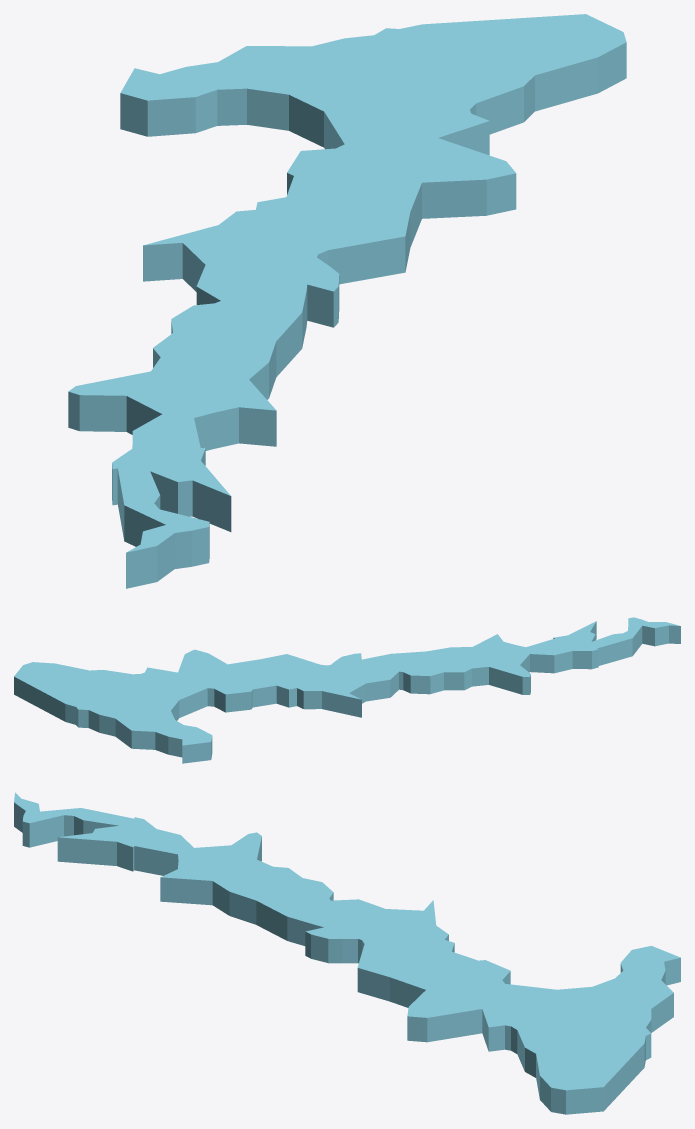
File: udeepcreek.glb
3 views of the same model, one above another, from view 1: azimuth 30°, elevation 25°; view 2: azimuth 150°, elevation 25°; view 3: azimuth 270°, elevation 25° (orthographic). The views are drawn at different scales.
Parts seen in each view (by area): view 1: deepcreek; view 2: deepcreek; view 3: deepcreek.
Boxes of the visible parts, <box> form: deepcreek: <box>68,14,626,588</box>; deepcreek: <box>14,617,680,763</box>; deepcreek: <box>14,792,680,1114</box>.
Bounding box in the file's own units: 1.49 × 0.0568 × 1.41.
